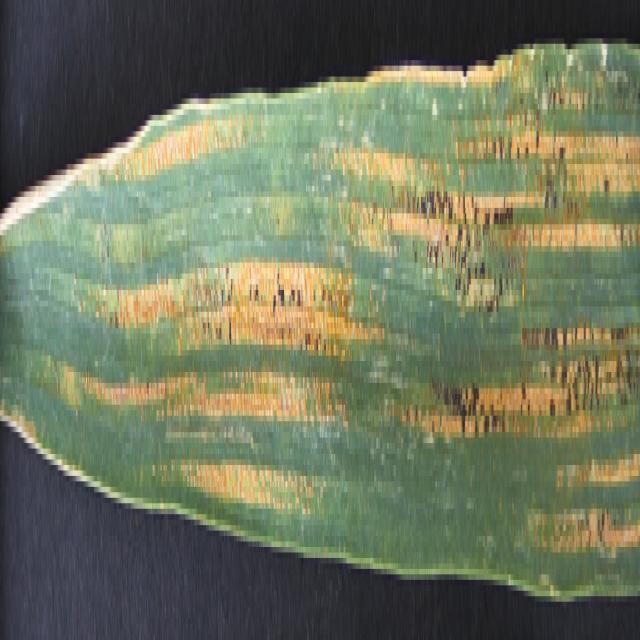leaf rust: (48, 55, 640, 558)
